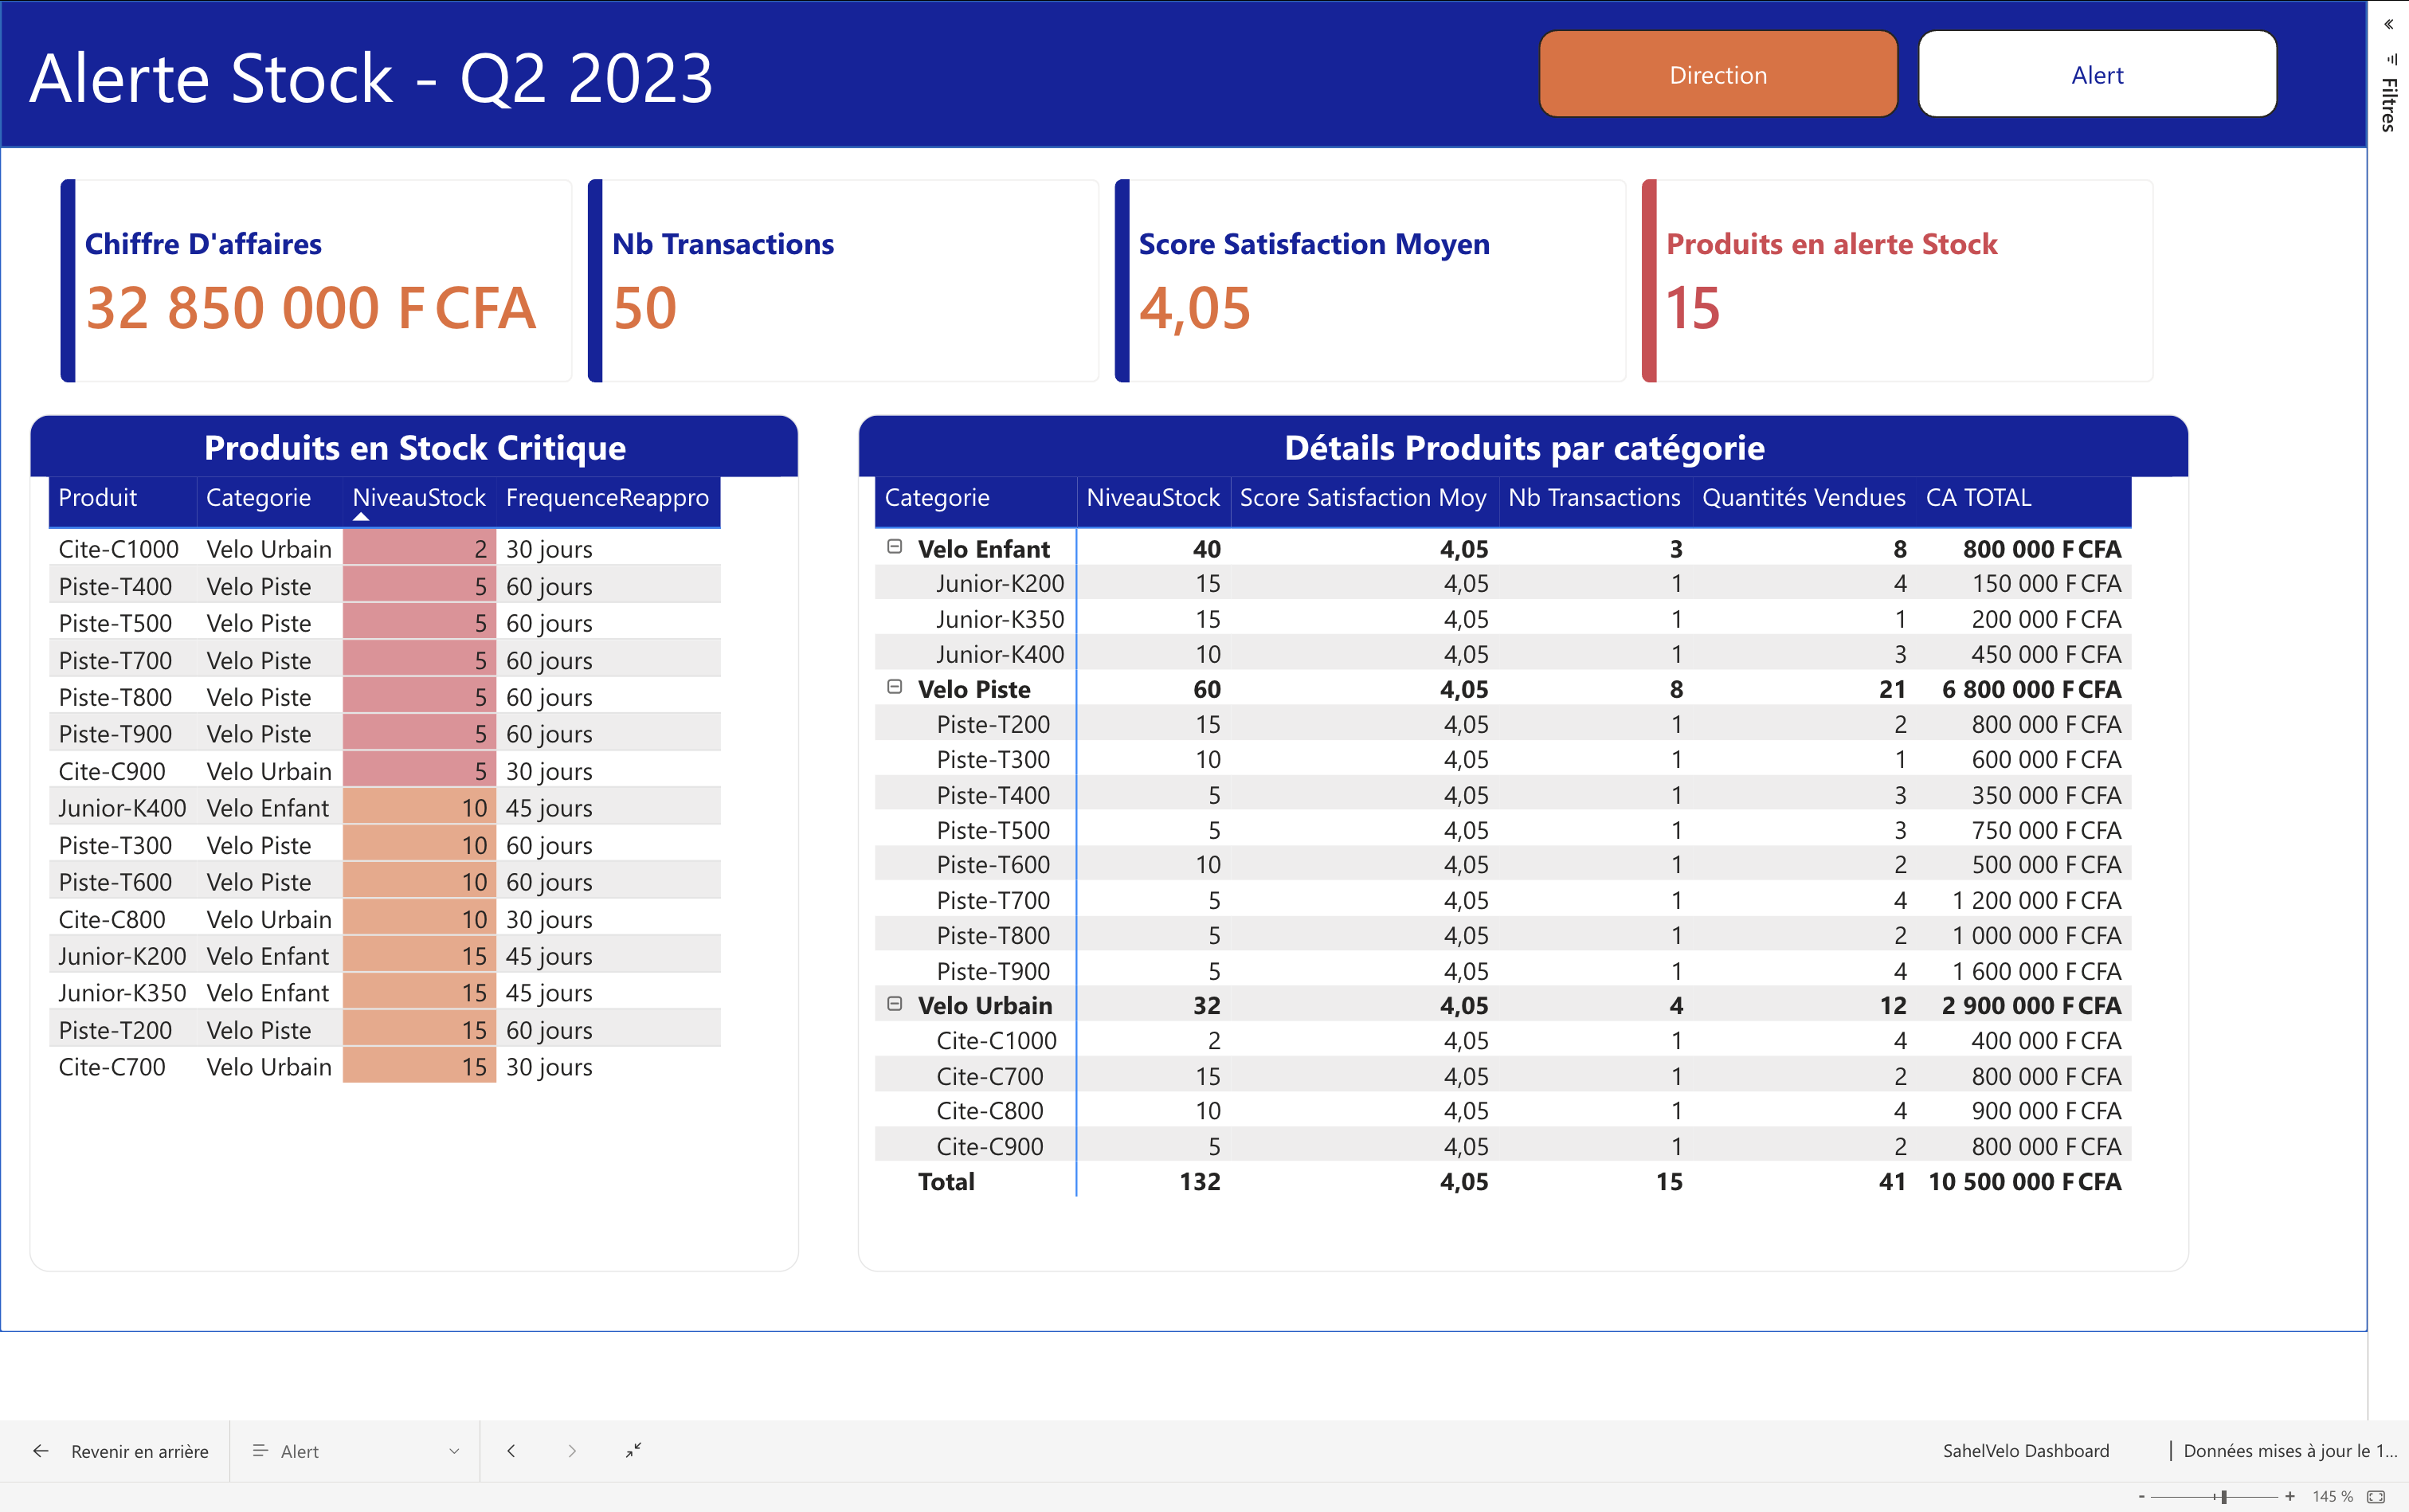

What the dashboard file says about the page in this screenshot:
{"tool":"powerbi","page":{"name":"Alert","canvas":[1280,720],"ordinal":1},"visuals":[{"type":"cardVisual","fields":{"Data":["Ventes.CA TOTAL","Ventes.Nb Transactions","Ventes.Score Satisfaction Moy","Ventes.Stock Critique"]},"box":[16,80,1168,144],"z":0},{"type":"tableEx","title":"Produits en Stock Critique","fields":{"Values":["Inventaire.NomProduit","Inventaire.Categorie","Inventaire.NiveauStock","Inventaire.FrequenceReappro"]},"box":[16,224,416,464],"z":1000},{"type":"shape","box":[0,0,1280,80],"z":2000},{"type":"textbox","box":[10,10,816,80],"z":3000},{"type":"pivotTable","title":"Détails Produits par catégorie","fields":{"Rows":["Inventaire.Categorie","Inventaire.NomProduit"],"Values":["Sum(Inventaire.NiveauStock)","Ventes.Score Satisfaction Moy","Ventes.Nb Transactions","Sum(Ventes.Quantite)","Ventes.CA TOTAL"]},"box":[464,224,720,464],"z":4000},{"type":"pageNavigator","box":[832,16,400,48],"z":5000}]}

Visuals, with their boxes on the page's 1280x720 design canvas (x1, y1, x2, y2). These are canvas units, not pixel positions in the 2409x1512 screenshot, which may show the page scaled, cropped or inside an application window:
cardVisual - Ventes.CA TOTAL x Ventes.Nb Transactions: box(16, 80, 1184, 224)
"Produits en Stock Critique" tableEx: box(16, 224, 432, 688)
shape: box(0, 0, 1280, 80)
textbox: box(10, 10, 826, 90)
"Détails Produits par catégorie" pivotTable: box(464, 224, 1184, 688)
pageNavigator: box(832, 16, 1232, 64)
